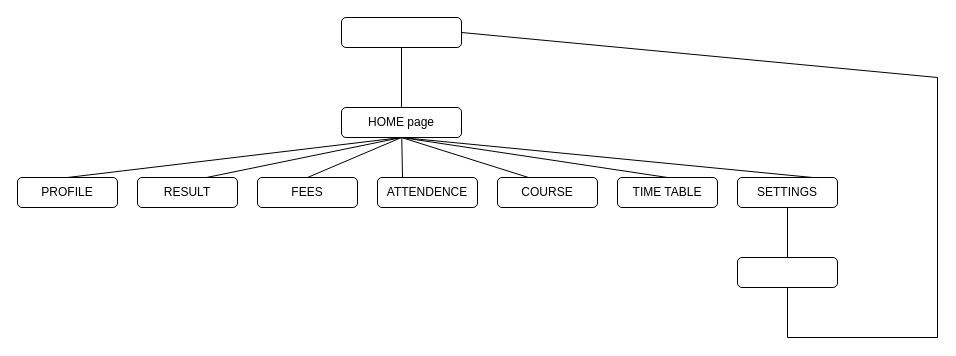
Image size: 956x356. Some labels were removed from this diagram. Here are the shapes that lost their labels. From the top down, the box of each, then its label:
(340, 16, 462, 48): Login page
(736, 256, 838, 288): LOGOUT
